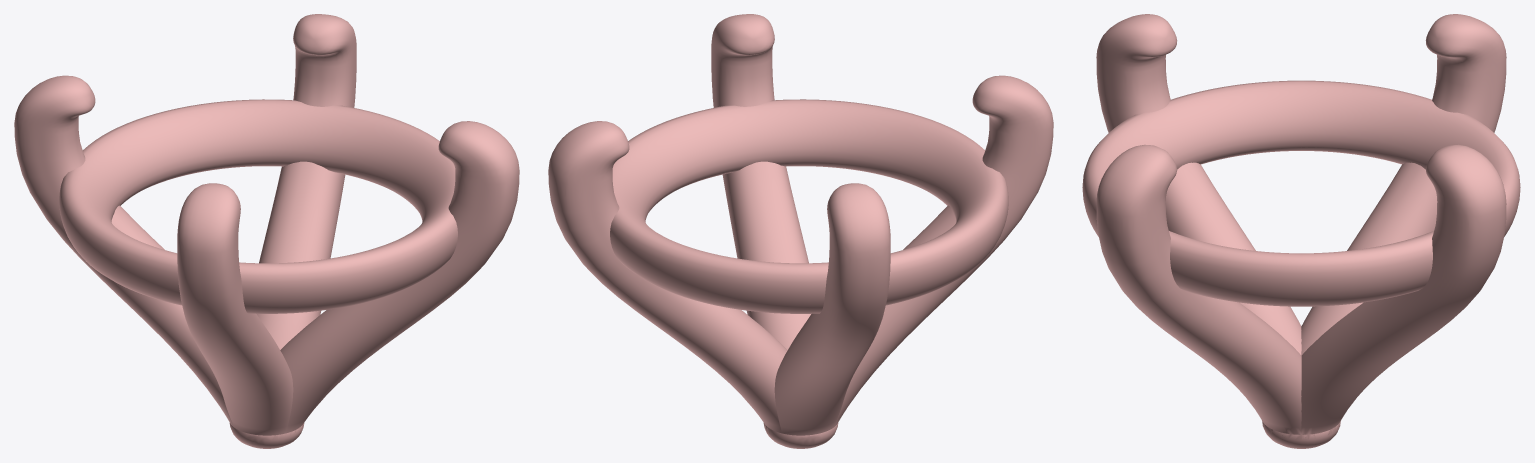
Rendered from ROUNDh.glb.
The picture shows the model from 3 angles, left to right: view 1: azimuth 30°, elevation 25°; view 2: azimuth 150°, elevation 25°; view 3: azimuth 270°, elevation 25°; orthographic projection. The views are drawn at different scales.
Visible parts, largest first — view 1: 4 prong; view 2: 4 prong; view 3: 4 prong.
Part boxes in pixels (x1,y1,x2,y2): 4 prong: (14,14,519,448); 4 prong: (548,14,1053,448); 4 prong: (1082,14,1520,448).
Size of the model in its own units: 4.96 by 4.48 by 4.96.
